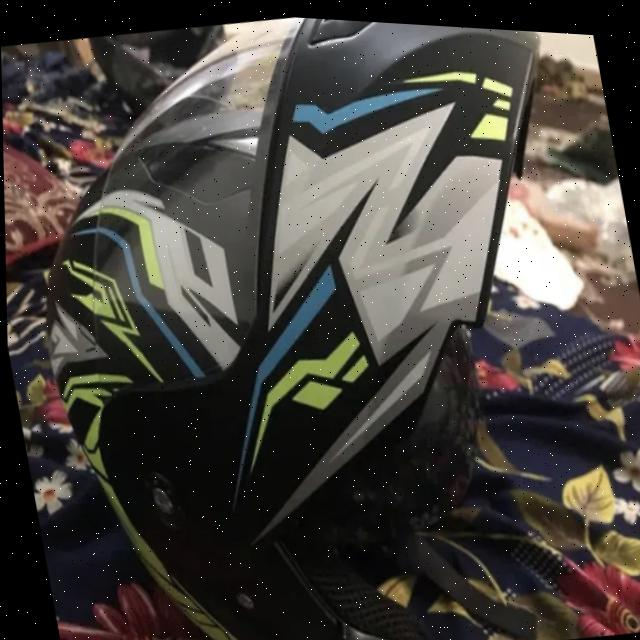Helmet: (28, 1, 640, 640)
